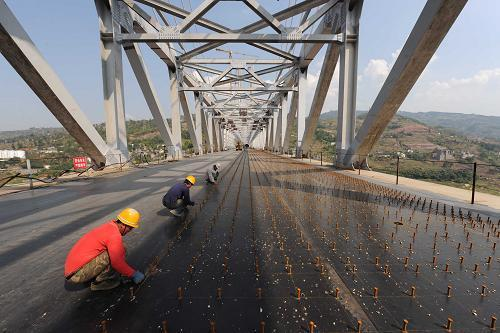helmet: (113, 206, 143, 236), (182, 174, 196, 188)
